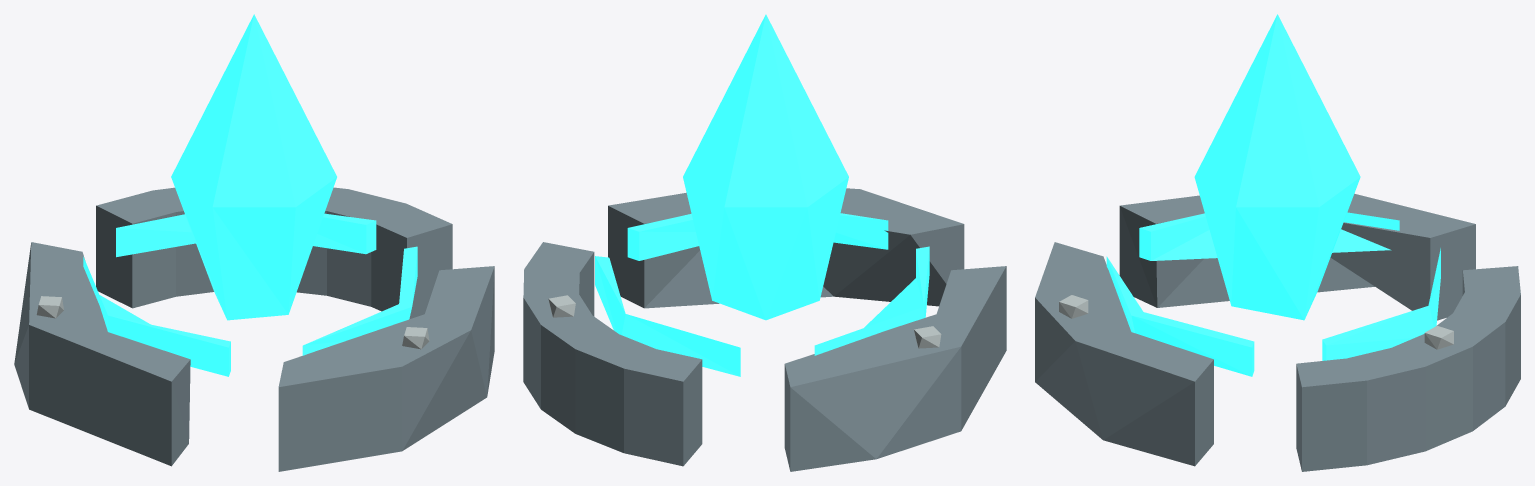
Rendered from Utility_HVAC_Exhaust.glb.
3 views of the same model, side by side, from view 1: azimuth 30°, elevation 25°; view 2: azimuth 150°, elevation 25°; view 3: azimuth 270°, elevation 25° (orthographic).
Parts seen in each view (by area): view 1: Utility_HVAC_Exhaust; view 2: Utility_HVAC_Exhaust; view 3: Utility_HVAC_Exhaust.
Part boxes in pixels (left/top/right/bottom): Utility_HVAC_Exhaust: left=14, top=14, right=494, bottom=471; Utility_HVAC_Exhaust: left=523, top=14, right=1006, bottom=471; Utility_HVAC_Exhaust: left=1035, top=14, right=1520, bottom=471.
Size of the model in its own units: 0.6758 by 0.545 by 0.6757.
